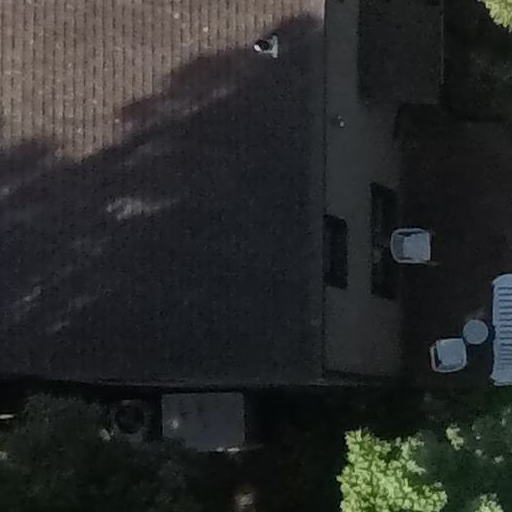chair: (385, 217, 446, 274), (425, 333, 470, 381)
table: (457, 318, 491, 345)
